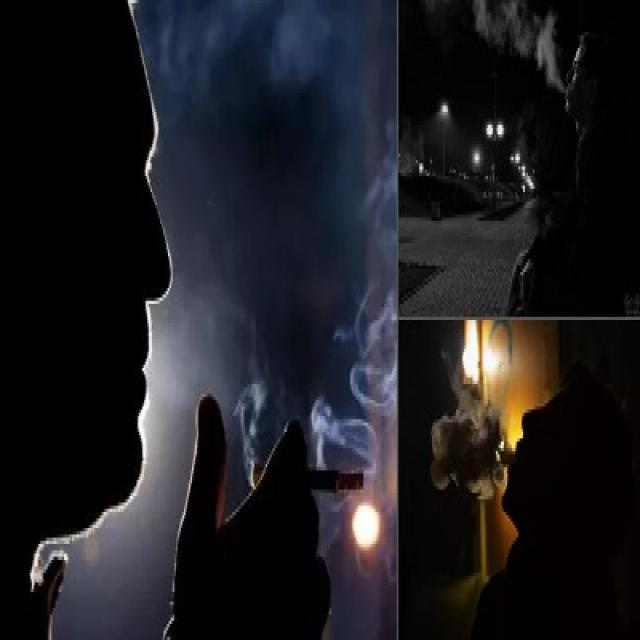smoke: (250, 461, 370, 496)
